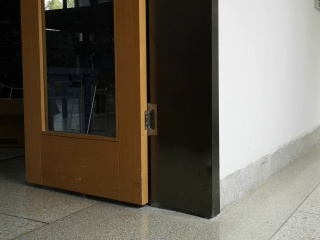room: (17, 3, 219, 215)
